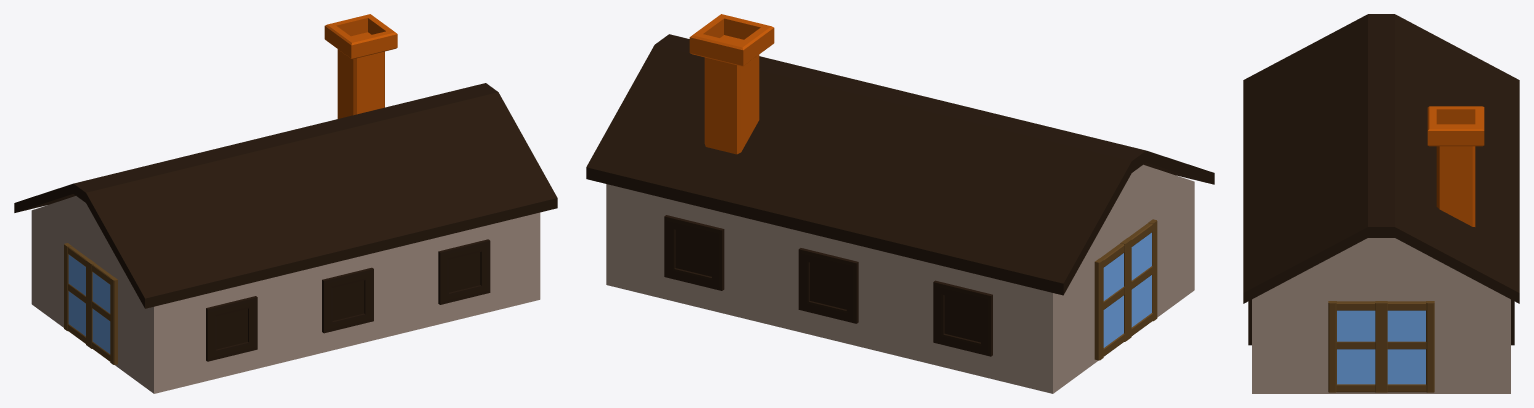
File: Refectory.glb
The picture shows the model from 3 angles, left to right: view 1: azimuth 30°, elevation 25°; view 2: azimuth 150°, elevation 25°; view 3: azimuth 270°, elevation 25°; orthographic projection. The views are drawn at different scales.
Visible parts, largest first — view 1: Refectory; view 2: Refectory; view 3: Refectory.
Boxes of the visible parts, bbox=[...] form: Refectory: bbox=[14, 14, 557, 393]; Refectory: bbox=[586, 14, 1214, 393]; Refectory: bbox=[1243, 14, 1519, 393].
Size of the model in its own units: 17.74 by 9.08 by 9.74.
